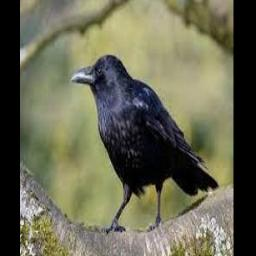Crow: (70, 55, 218, 233)
